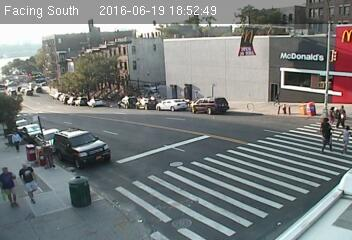neg: (205, 80, 224, 105), (162, 78, 178, 100), (179, 84, 190, 98), (91, 88, 101, 100)
pos: (11, 162, 45, 208), (7, 130, 25, 155)
